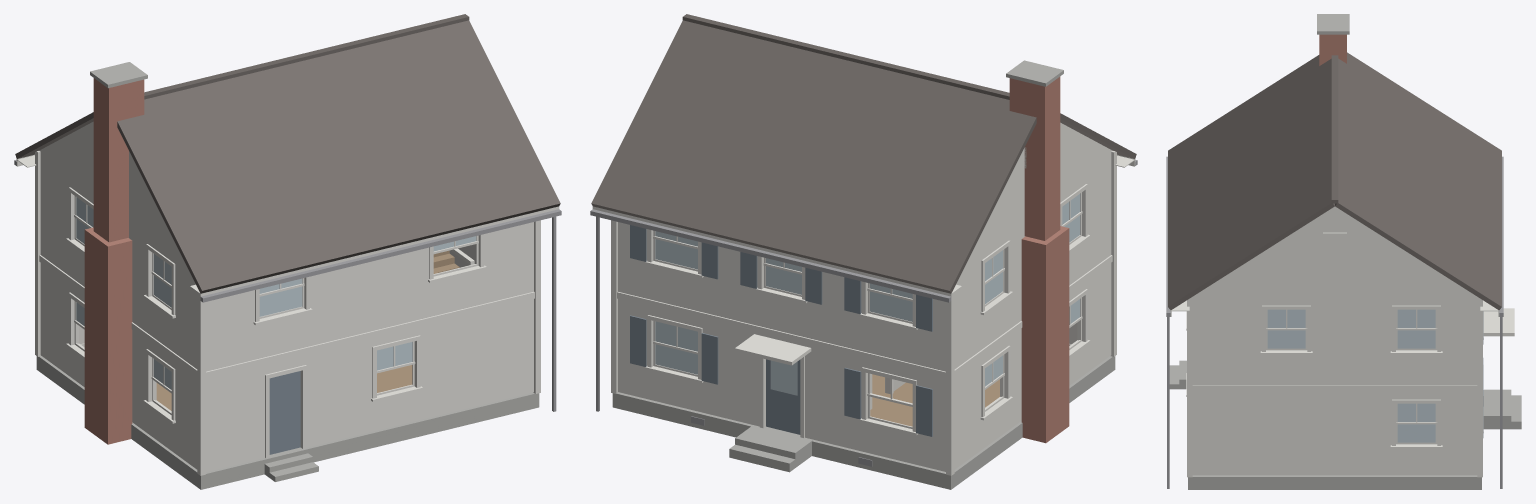
Rendered from SM_House_C.fbx.
3 views of the same model, side by side, from view 1: azimuth 30°, elevation 25°; view 2: azimuth 150°, elevation 25°; view 3: azimuth 270°, elevation 25° (orthographic). The views are drawn at different scales.
Visible parts, largest first — view 1: SM_House_C, SM_House_C_Glass; view 2: SM_House_C, SM_House_C_Glass; view 3: SM_House_C, SM_House_C_Glass.
Part boxes in pixels (bbox=[...]): SM_House_C: bbox=[14, 14, 561, 489]; SM_House_C_Glass: bbox=[76, 197, 476, 389]; SM_House_C: bbox=[590, 14, 1137, 489]; SM_House_C_Glass: bbox=[655, 194, 1080, 395]; SM_House_C: bbox=[1166, 14, 1521, 489]; SM_House_C_Glass: bbox=[1267, 309, 1435, 442].
Bounding box in the file's own units: 11.1 × 10.19 × 10.28.
